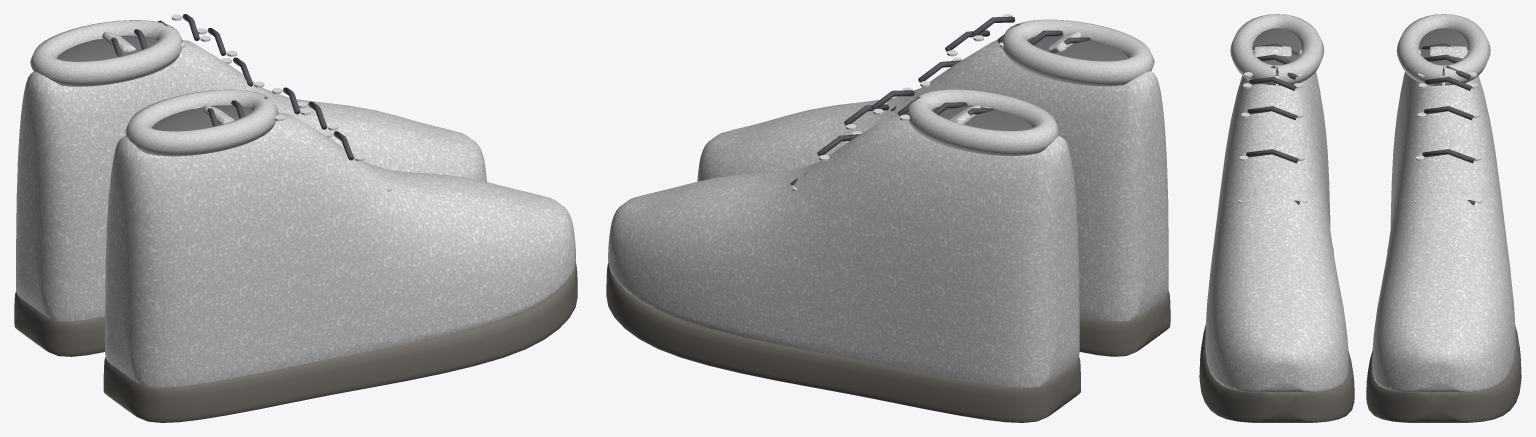
File: boots.glb
3 views of the same model, side by side, from view 1: azimuth 30°, elevation 25°; view 2: azimuth 150°, elevation 25°; view 3: azimuth 270°, elevation 25° (orthographic). The views are drawn at different scales.
Parts seen in each view (by area): view 1: boot0_upper, boot1_upper, boot0_sole, boot0_collar, boot1_collar, boot1_sole, boot1_opening, boot0_opening; view 2: boot1_upper, boot0_upper, boot1_sole, boot1_collar, boot0_collar, boot0_sole, boot0_opening, boot1_opening; view 3: boot0_upper, boot1_upper, boot0_sole, boot1_sole, boot0_collar, boot1_collar, boot0_opening, boot1_opening, boot1_tongue, boot0_tongue, boot0_lace5, boot1_lace5.
Boxes of the visible parts, bbox=[...] form: boot0_upper: bbox=[105, 112, 575, 387]; boot1_upper: bbox=[16, 40, 486, 321]; boot0_sole: bbox=[103, 263, 577, 422]; boot0_collar: bbox=[125, 89, 278, 156]; boot1_collar: bbox=[30, 20, 182, 86]; boot1_sole: bbox=[14, 291, 104, 356]; boot1_opening: bbox=[56, 35, 157, 61]; boot0_opening: bbox=[152, 105, 252, 131]; boot1_upper: bbox=[608, 113, 1079, 387]; boot0_upper: bbox=[697, 40, 1168, 321]; boot1_sole: bbox=[606, 263, 1080, 422]; boot1_collar: bbox=[906, 89, 1059, 155]; boot0_collar: bbox=[1002, 19, 1154, 86]; boot0_sole: bbox=[1079, 291, 1170, 356]; boot0_opening: bbox=[1027, 35, 1127, 61]; boot1_opening: bbox=[932, 105, 1032, 130]; boot0_upper: bbox=[1205, 72, 1348, 392]; boot1_upper: bbox=[1372, 72, 1515, 392]; boot0_sole: bbox=[1199, 247, 1354, 422]; boot1_sole: bbox=[1366, 248, 1521, 422]; boot0_collar: bbox=[1230, 14, 1324, 85]; boot1_collar: bbox=[1396, 14, 1490, 85]; boot0_opening: bbox=[1252, 28, 1301, 75]; boot1_opening: bbox=[1419, 28, 1468, 75]; boot1_tongue: bbox=[1428, 46, 1467, 194]; boot0_tongue: bbox=[1253, 46, 1291, 194]; boot0_lace5: bbox=[1246, 149, 1298, 163]; boot1_lace5: bbox=[1422, 149, 1474, 163].
Size of the model in its own units: 29 by 17.39 by 20.75.
Materials: 5 (1 with a texture image).
